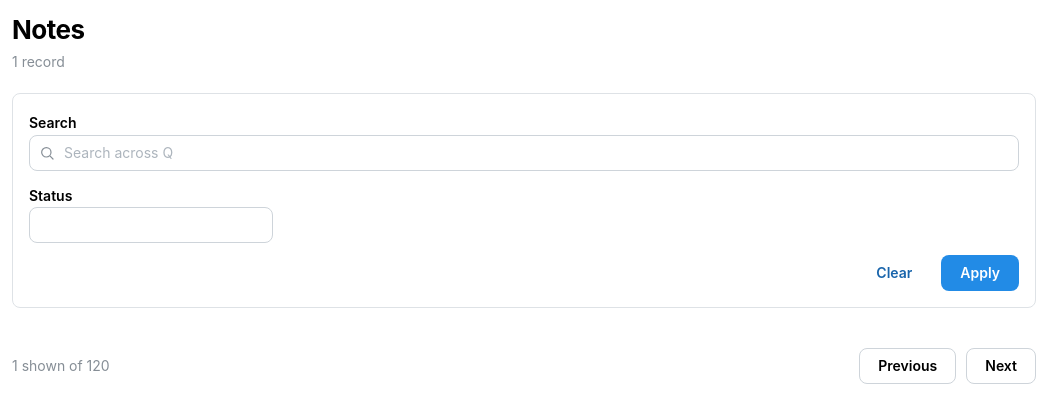
Test: ListPage cursor pagination › still shows an error card when the failure is not a cursor rejection
The image size is (1048, 401).
Step 1. Click the button "Next" → (1001, 366), box left=966, top=348, right=1036, bottom=384
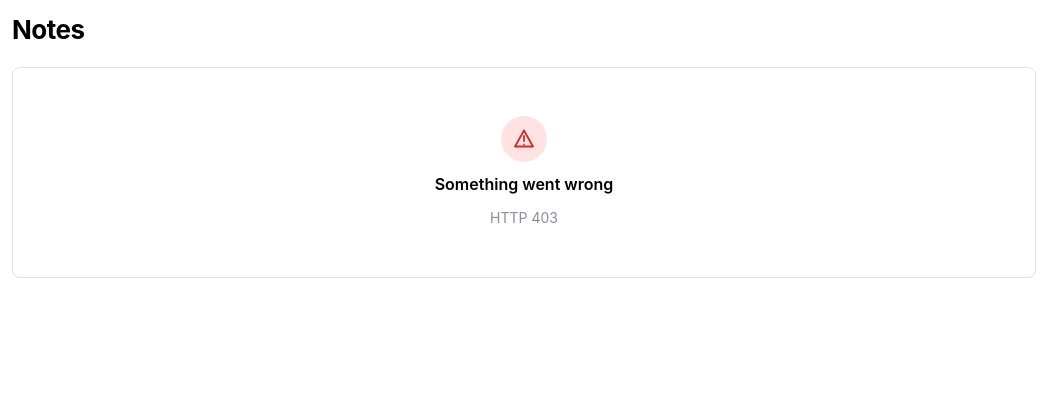
Check: the text "Something went wrong" is shown, box left=435, top=172, right=613, bottom=197
